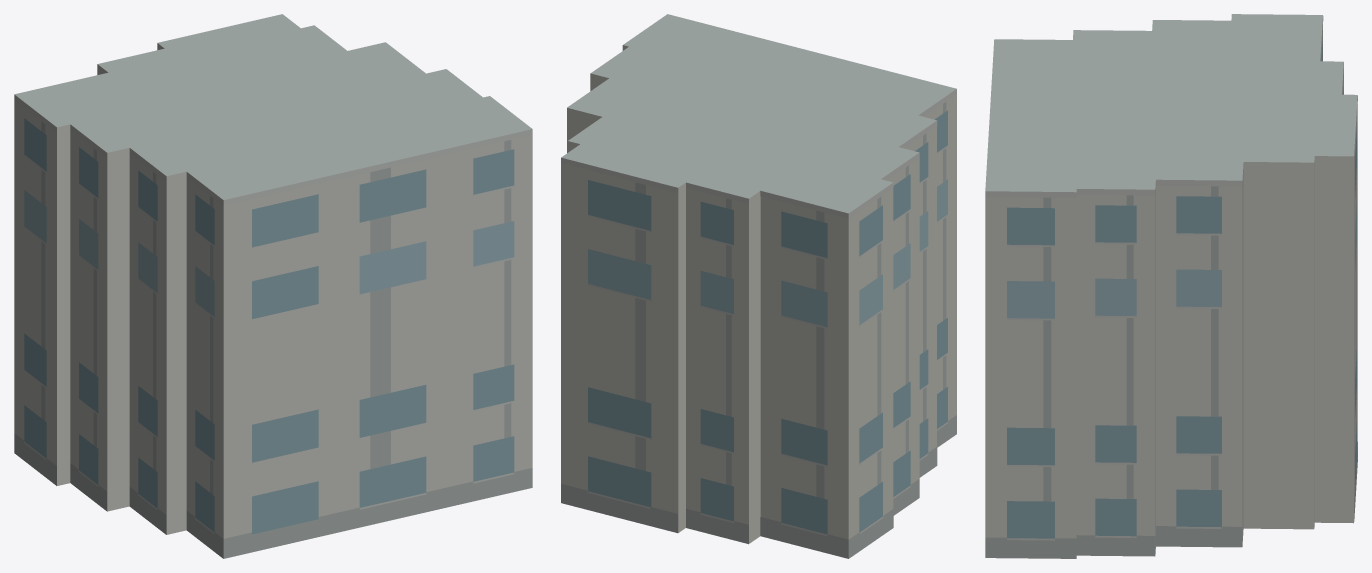
Rendered from survey-upis-32958545.glb.
3 views of the same model, side by side, from view 1: azimuth 30°, elevation 25°; view 2: azimuth 150°, elevation 25°; view 3: azimuth 270°, elevation 25° (orthographic). The views are drawn at different scales.
Parts seen in each view (by area): view 1: survey-upis-32958545.tmp; view 2: survey-upis-32958545.tmp; view 3: survey-upis-32958545.tmp.
Part boxes in pixels (bbox=[...]): survey-upis-32958545.tmp: bbox=[14, 14, 532, 558]; survey-upis-32958545.tmp: bbox=[561, 14, 956, 558]; survey-upis-32958545.tmp: bbox=[985, 14, 1357, 558].
Bounding box in the file's own units: 15.84 × 15.2 × 14.
